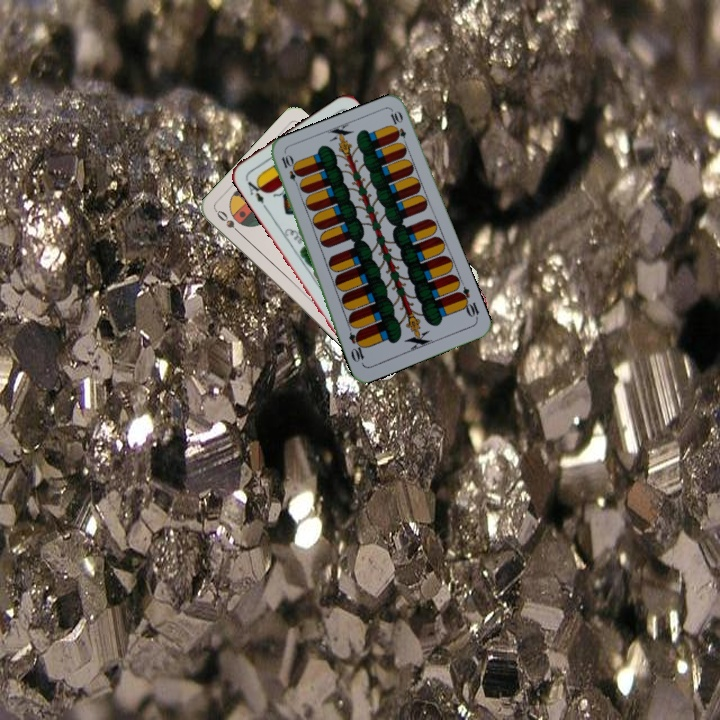E10: (453, 283, 482, 322), (277, 151, 303, 190)
EA: (241, 175, 269, 211)
SO: (212, 206, 245, 238)
